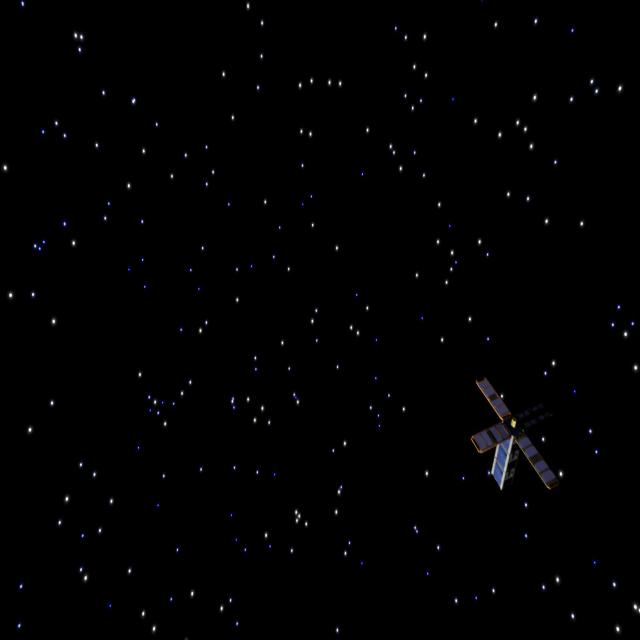satellite: (468, 377, 556, 506)
